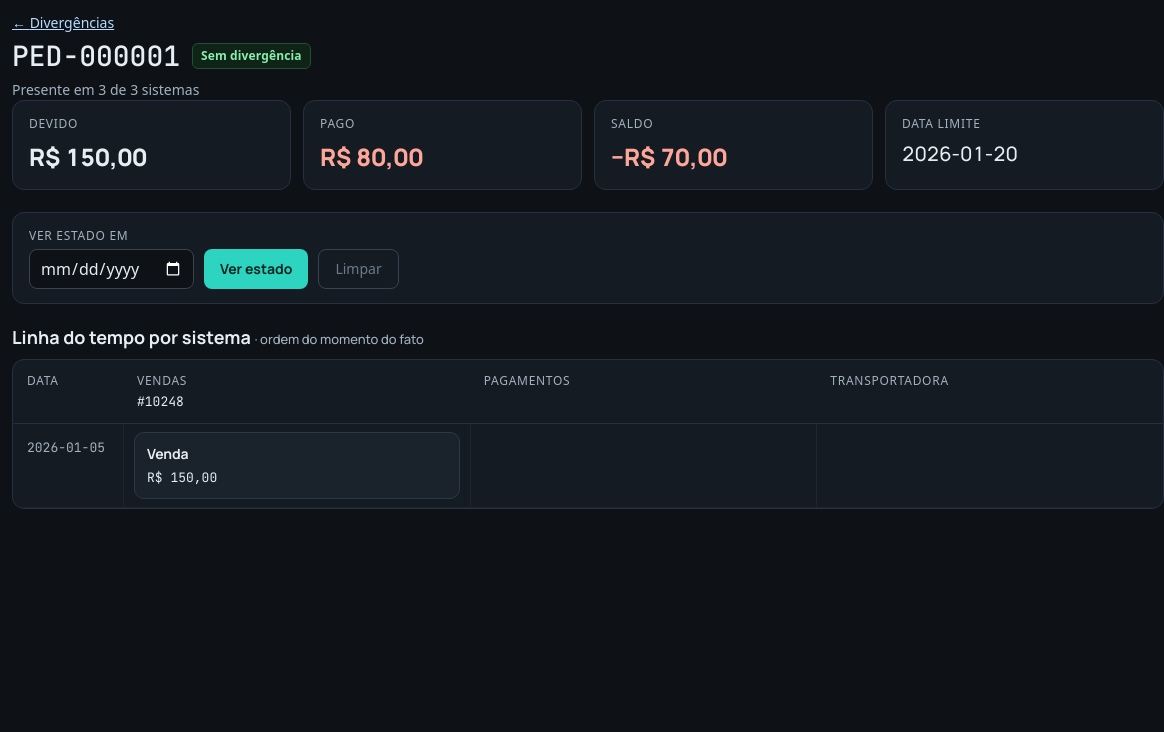
Estado do pedido em uma data — evento do próprio dia › venda em 2026-01-05T10:00Z com data 2026-01-05 entra no estado e não é atenuada
Check: the heading named "Pedido PED-000001" is shown, box [12, 39, 180, 73]
Step 1. Type "2026-01-05" into the date field labelled "Ver estado em" → (112,269), box [29, 249, 194, 289]
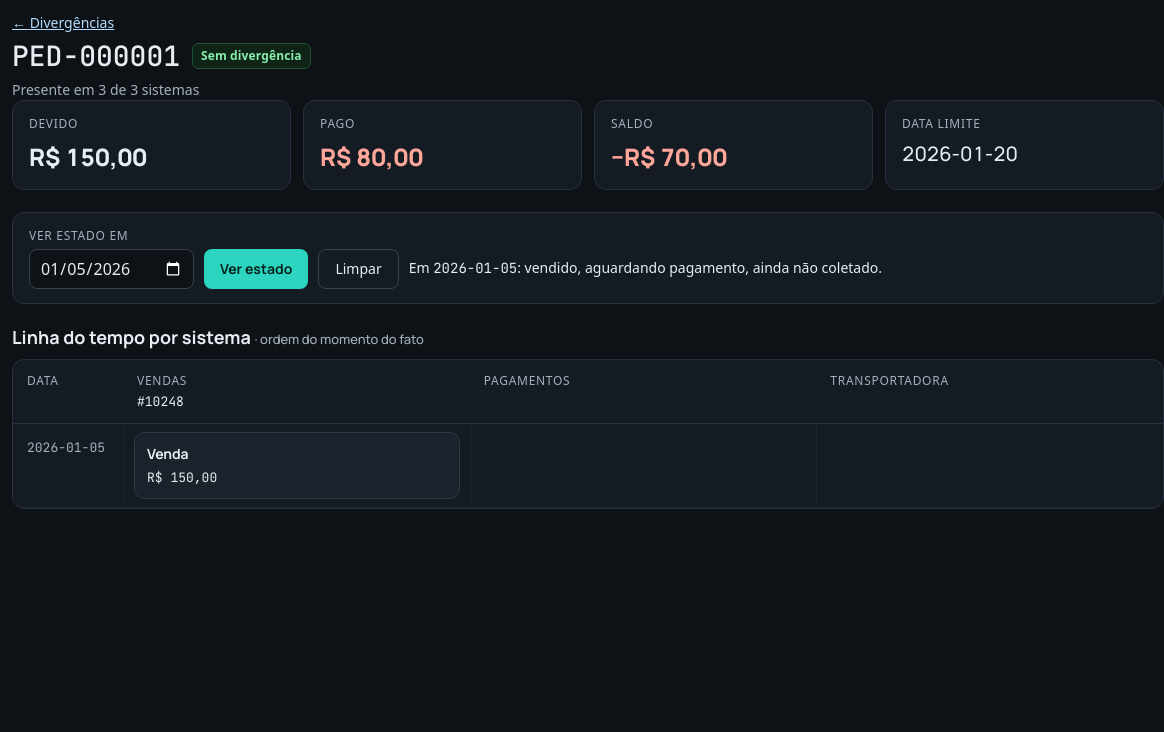
Check: the element with class "seletor-data__resultado" shows "Em 2026-01-05: vendido", box [409, 258, 882, 277]
